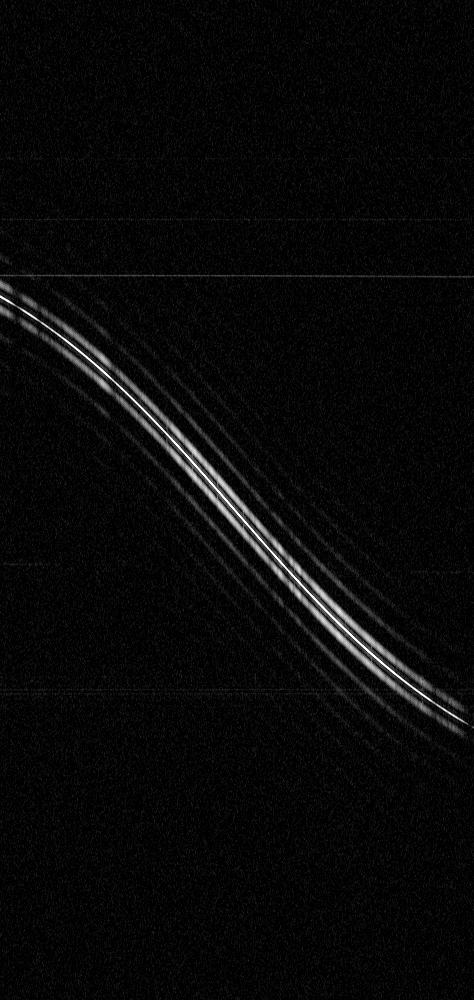signal: (0, 0, 473, 999)
